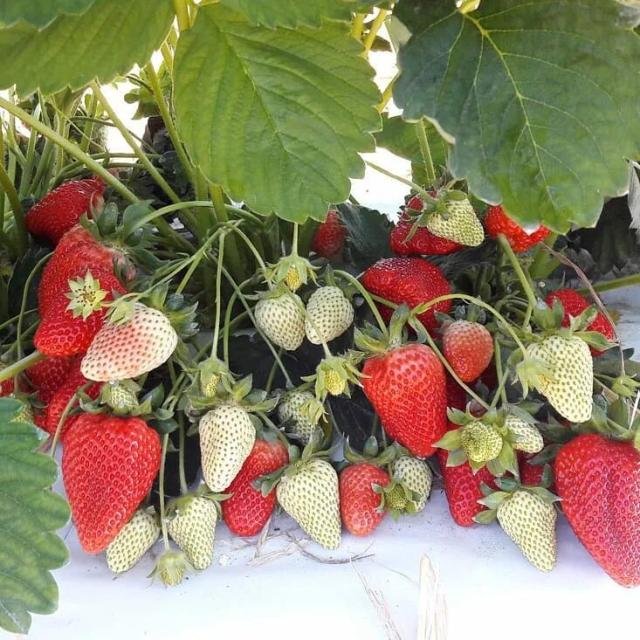Ripe Strawberry: (49, 412, 159, 554), (552, 433, 640, 599), (361, 336, 449, 455), (23, 248, 105, 354), (216, 424, 285, 544), (445, 416, 502, 535), (368, 253, 455, 318), (336, 460, 394, 546), (549, 280, 617, 350), (26, 173, 108, 230), (481, 195, 547, 250), (403, 200, 441, 258), (314, 208, 348, 255)
